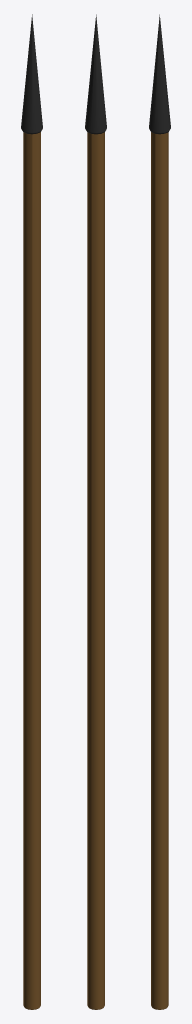
File: spear.fbx
The picture shows the model from 3 angles, left to right: view 1: azimuth 90°, elevation 25°; view 2: azimuth 150°, elevation 25°; view 3: azimuth 330°, elevation 25°; orthographic projection.
Parts seen in each view (by area): view 1: Spear; view 2: Spear; view 3: Spear.
Boxes of the visible parts, box(x1,y1,x2,y2) form: Spear: box(21, 14, 42, 1009); Spear: box(85, 14, 106, 1009); Spear: box(149, 14, 170, 1009).
Bounding box in the file's own units: 0.2055 × 10 × 0.2024.
